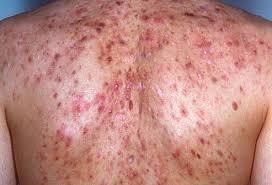Acne: (28, 19, 118, 65), (199, 27, 254, 66), (124, 142, 170, 181), (139, 16, 174, 63), (195, 137, 237, 176), (111, 80, 145, 122), (184, 75, 211, 124), (68, 87, 96, 121), (52, 127, 73, 163)
